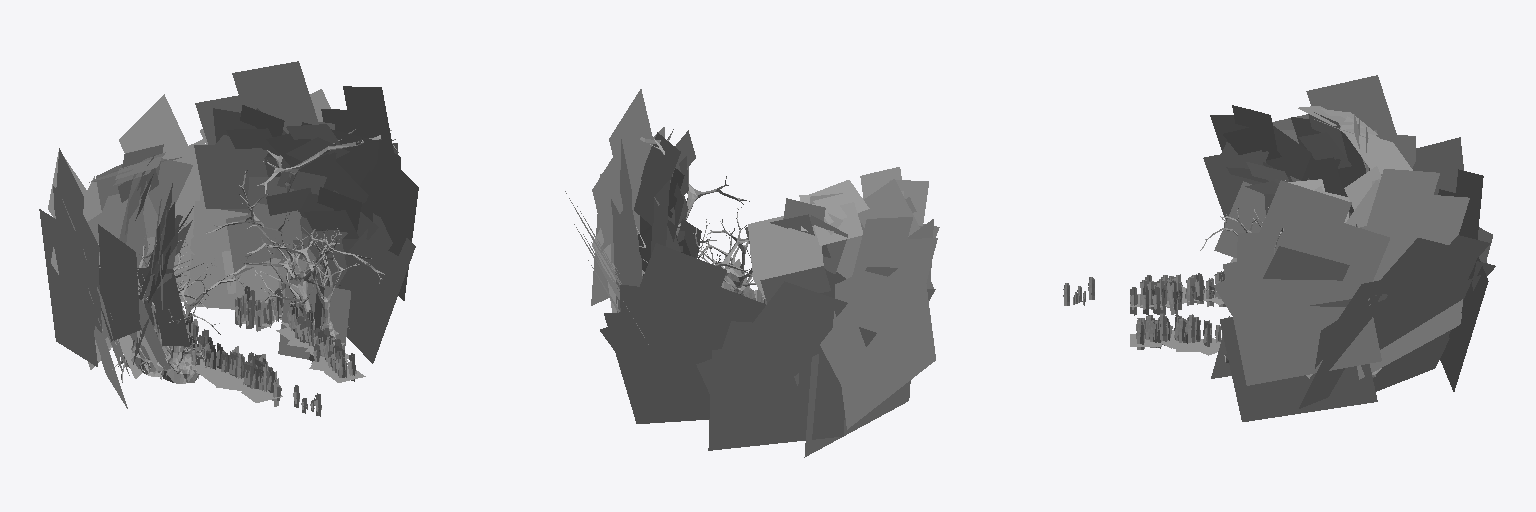
3 views of the same model, side by side, from view 1: azimuth 30°, elevation 25°; view 2: azimuth 150°, elevation 25°; view 3: azimuth 270°, elevation 25° (orthographic).
Parts seen in each view (by area): view 1: Material_#131, Material_#139, wall_03, Material_#140, Material_#10; view 2: Material_#131, wall_03; view 3: Material_#131, Material_#139, Material_#140.
Boxes of the visible parts, <box> form: Material_#131: <box>39,61,418,408</box>; Material_#139: <box>179,283,356,416</box>; wall_03: <box>98,129,398,382</box>; Material_#140: <box>166,300,365,402</box>; Material_#10: <box>126,298,335,383</box>; Material_#131: <box>565,89,939,457</box>; wall_03: <box>636,129,764,299</box>; Material_#131: <box>1203,75,1495,421</box>; Material_#139: <box>1063,271,1230,349</box>; Material_#140: <box>1130,286,1223,355</box>.
Bounding box in the file's own units: 24.06 × 19.25 × 27.5.